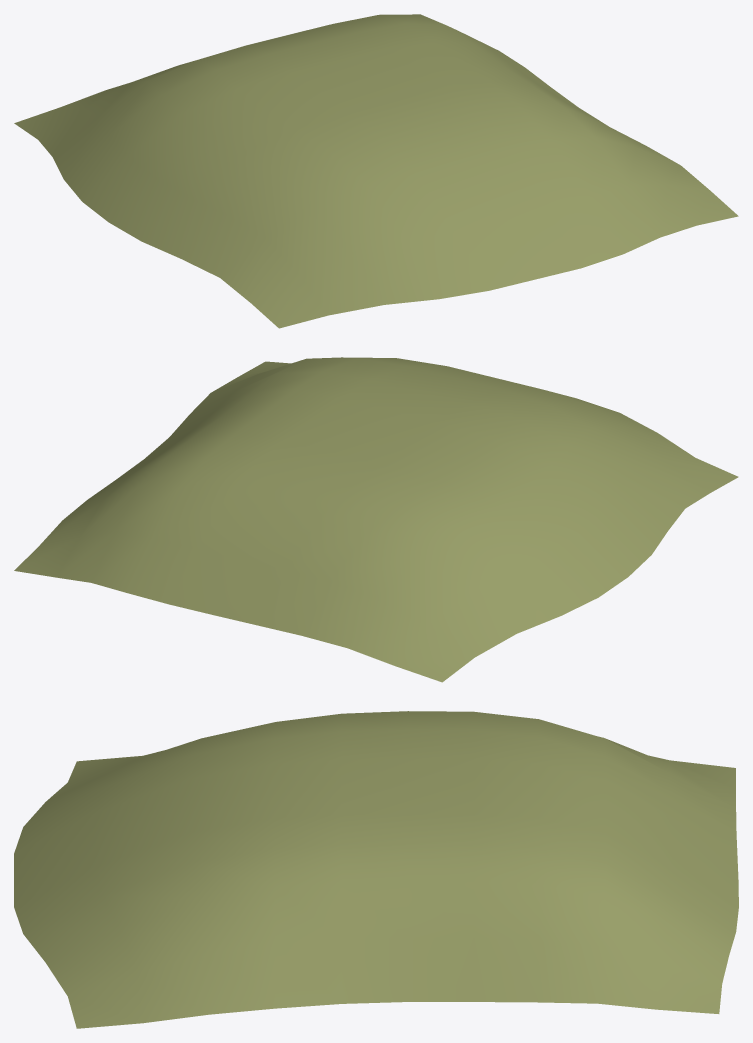
Rendered from SM_Green_Spills.fbx.
3 renders of one model, top to bottom at view 1: azimuth 30°, elevation 25°; view 2: azimuth 150°, elevation 25°; view 3: azimuth 270°, elevation 25°, orthographic. The views are drawn at different scales.
Visible parts, largest first — view 1: SM_Green_Spills; view 2: SM_Green_Spills; view 3: SM_Green_Spills.
Boxes of the visible parts, bbox=[...] form: SM_Green_Spills: bbox=[14, 14, 738, 328]; SM_Green_Spills: bbox=[14, 357, 738, 682]; SM_Green_Spills: bbox=[14, 711, 738, 1028].
Size of the model in its own units: 42.62 by 7.47 by 45.69.
